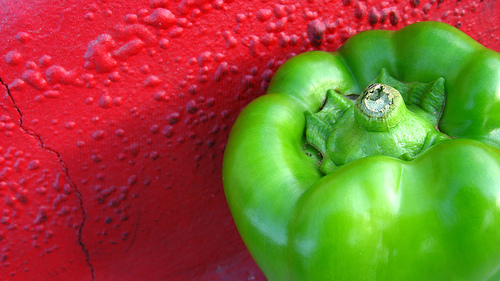capsicum: (222, 21, 499, 279)
